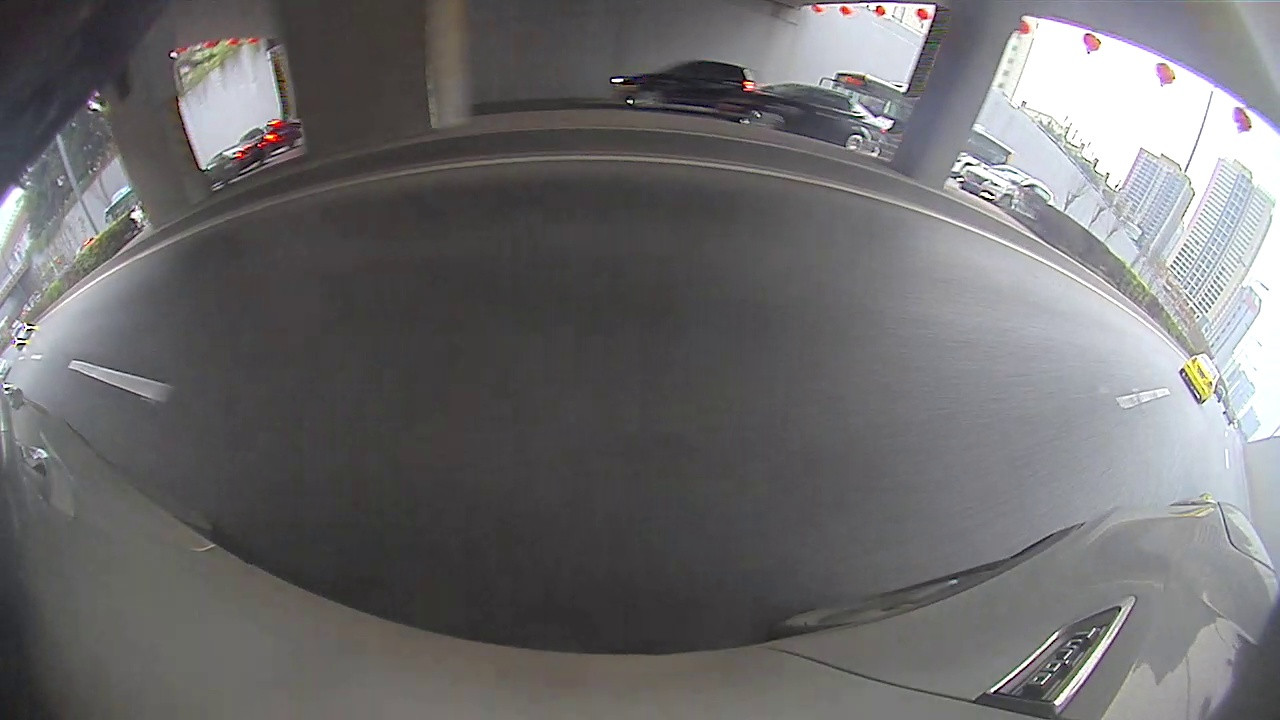car: (720, 83, 883, 155), (612, 60, 752, 113), (959, 160, 1053, 212), (205, 144, 264, 183), (235, 119, 297, 155), (1179, 352, 1223, 402)
